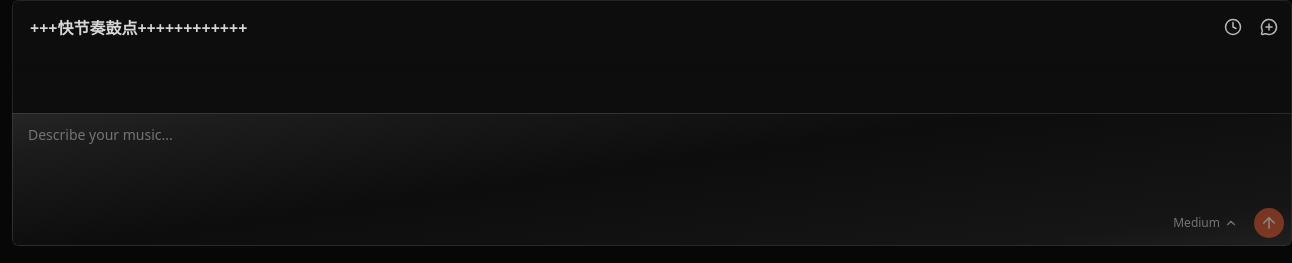
Test case: Sidebar session title editing layout › keeps space between the edit input and the history actions
(page scrolled)
Click the button "+++快节奏鼓点++++++++++++": (149, 28) x1=22 y1=12 x2=275 y2=44
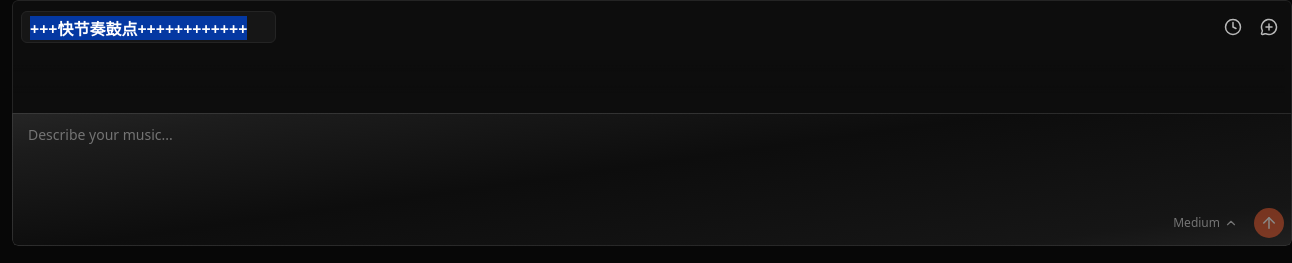
Now the field named "Edit session title" is shown, box x1=22 y1=12 x2=275 y2=43
